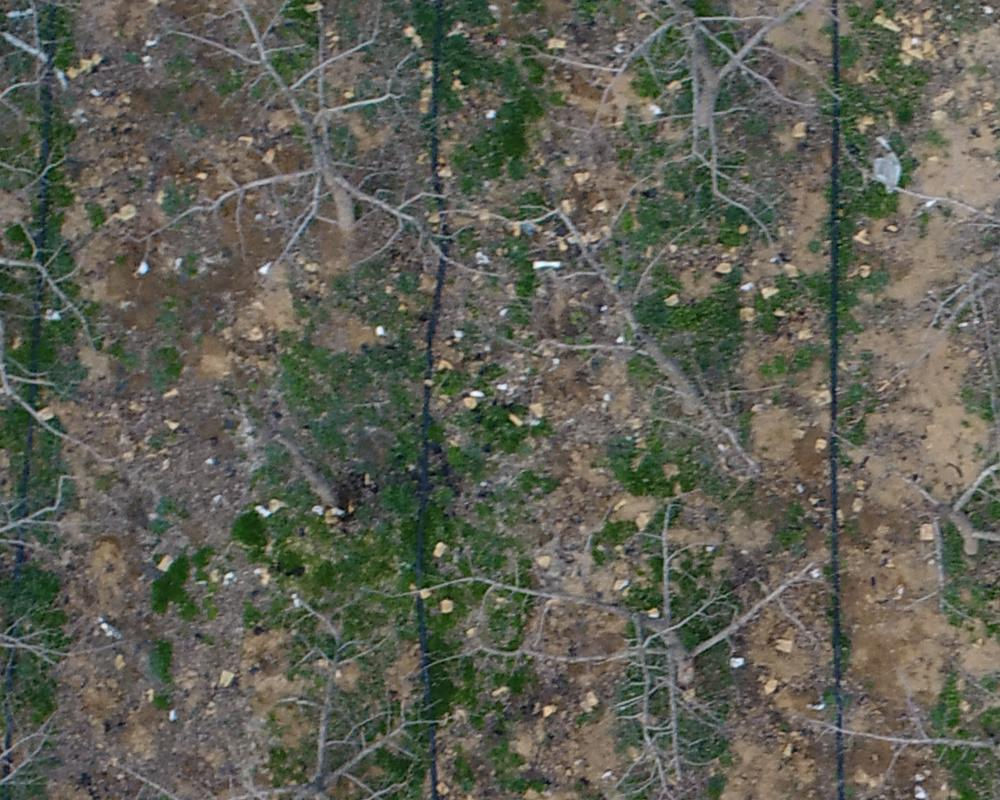apple: (461, 155, 792, 538), (394, 505, 809, 790), (141, 10, 523, 293), (523, 10, 842, 232), (838, 10, 990, 365), (845, 376, 990, 645)
